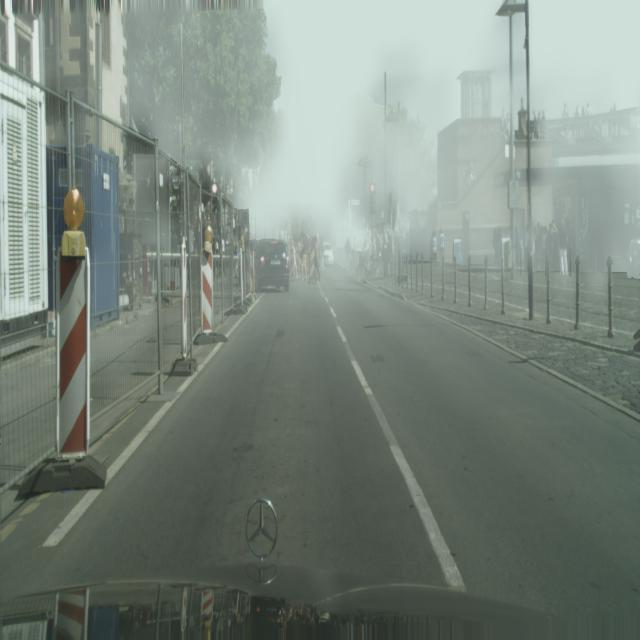car: (356, 254, 383, 282)
person: (308, 237, 321, 281), (292, 240, 301, 283), (300, 237, 307, 282)
truck: (254, 238, 290, 292), (322, 243, 334, 267)
